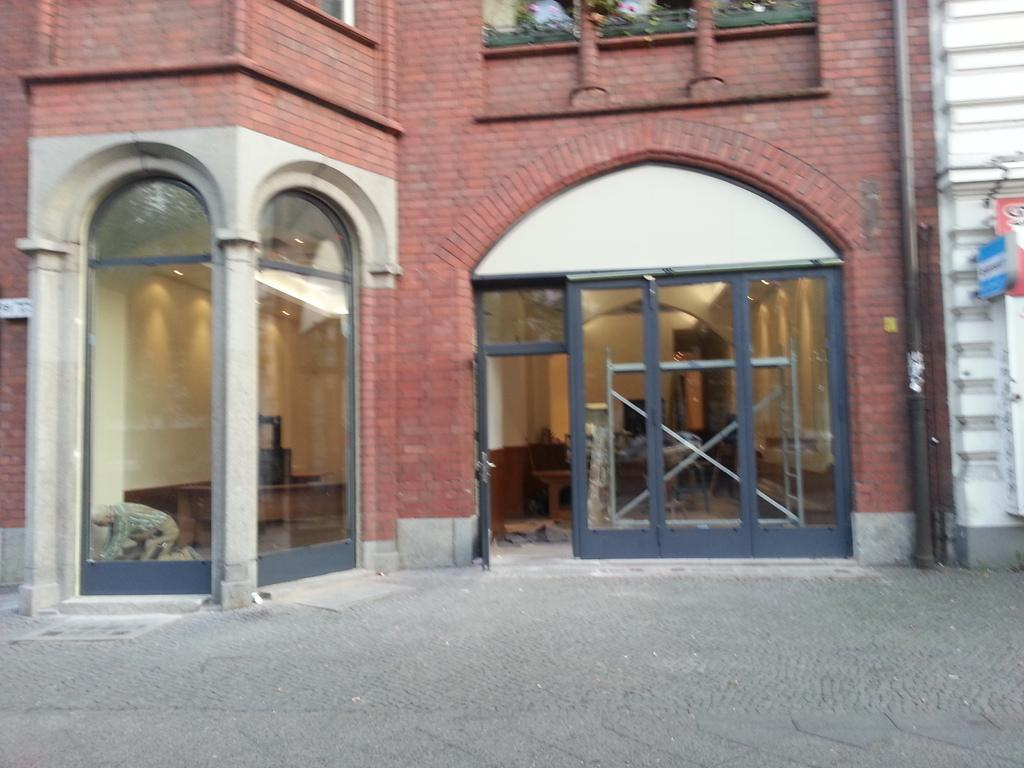door: (476, 335, 495, 566)
handle: (476, 450, 498, 486)
